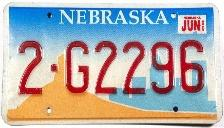2: (16, 38, 46, 97), (92, 39, 120, 96), (120, 40, 148, 96)
6: (178, 37, 207, 95)
9: (150, 40, 177, 94)
G: (63, 38, 91, 97)
